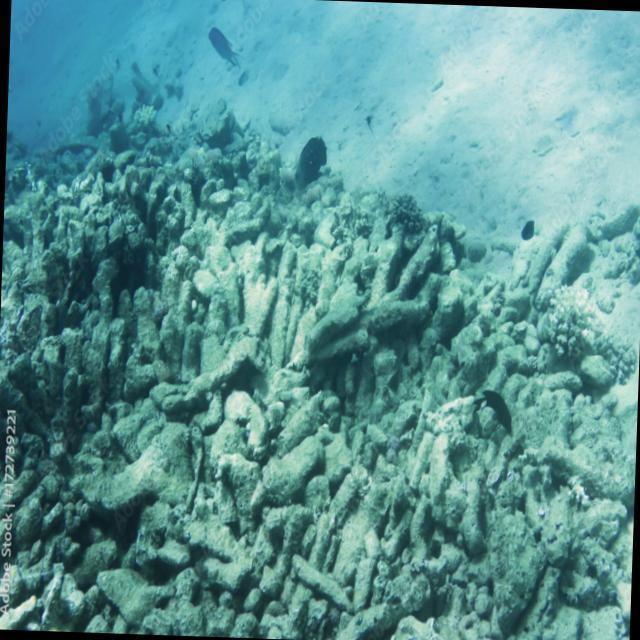Dead Coral: (0, 127, 621, 640)
